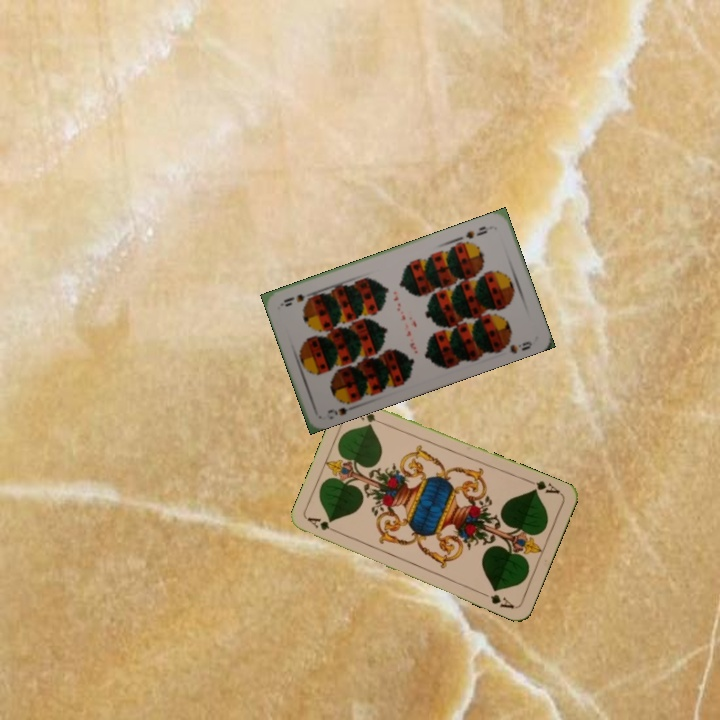GA: (304, 513, 343, 537), (524, 476, 563, 497)
S9: (323, 397, 359, 418), (461, 222, 490, 241)
